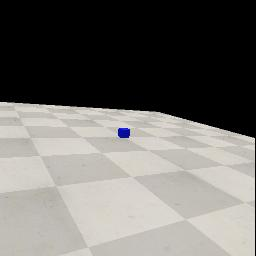box: (118, 128, 130, 138)
